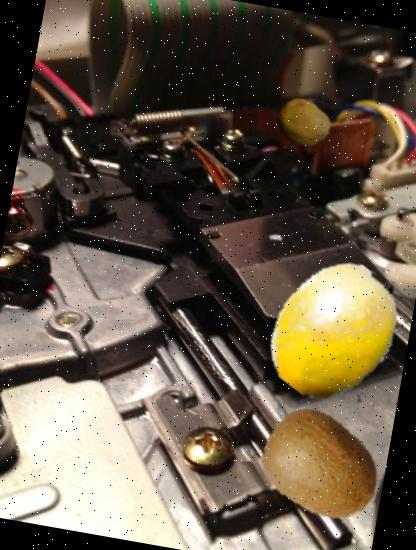Kiwi: (248, 393, 392, 538)
Maracuja: (252, 250, 415, 412)
Papaya: (272, 92, 336, 155)
